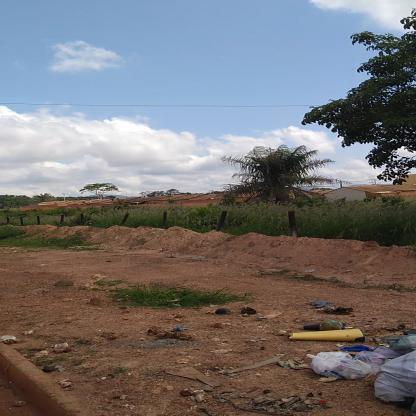lixo: (286, 327, 416, 402)
